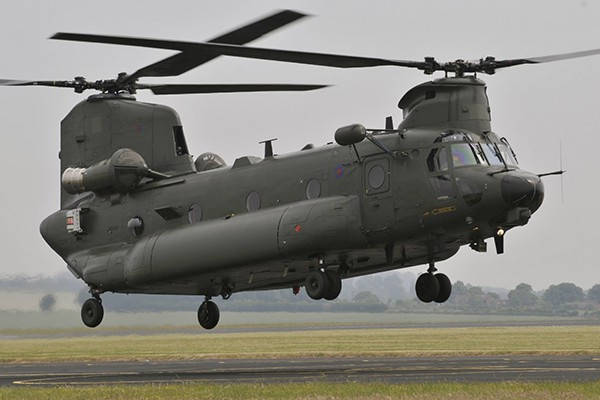chinook: (18, 11, 582, 329)
